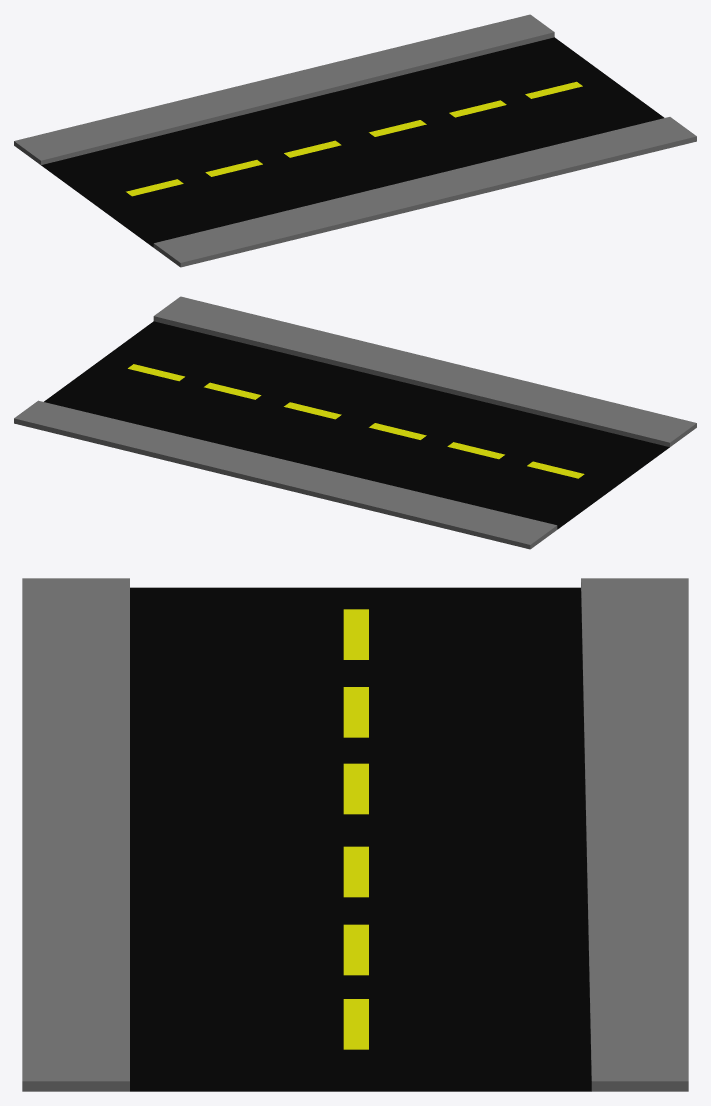
Rendered from Striaght Road by two sided Road V3.fbx.
3 renders of one model, top to bottom at view 1: azimuth 30°, elevation 25°; view 2: azimuth 150°, elevation 25°; view 3: azimuth 270°, elevation 25°, orthographic. The views are drawn at different scales.
Visible parts, largest first — view 1: polySurface437; view 2: polySurface437; view 3: polySurface437.
Boxes of the visible parts, x1=… form: polySurface437: x1=14, y1=14, x2=696, y2=267; polySurface437: x1=14, y1=296, x2=696, y2=549; polySurface437: x1=22, y1=578, x2=688, y2=1091.
Size of the model in its own units: 22.17 by 0.2121 by 12.39.
